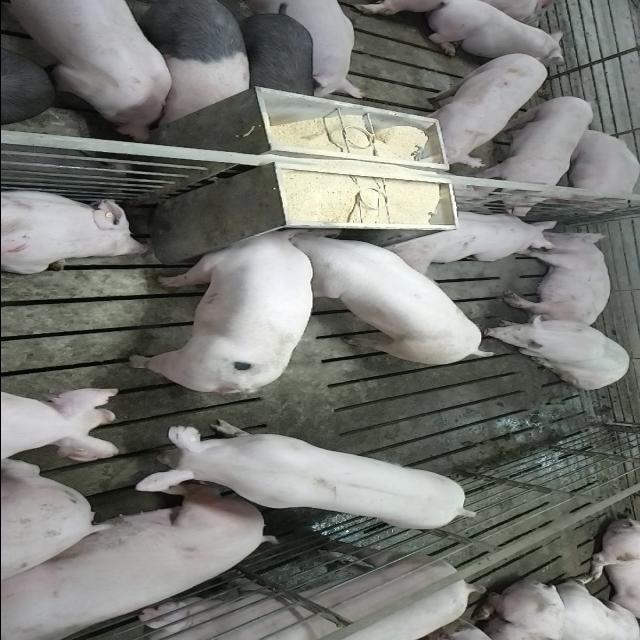Feeding: (123, 220, 315, 390), (286, 231, 498, 367)
Lateral_lying: (501, 230, 611, 329)
Sitting: (481, 316, 633, 390)
Standing: (138, 419, 476, 533), (123, 542, 474, 640), (0, 2, 176, 140), (120, 2, 252, 128), (409, 51, 548, 168), (476, 95, 596, 216), (2, 384, 122, 464), (229, 4, 317, 110)
Sternal_lying: (0, 187, 150, 275), (378, 208, 557, 272), (418, 2, 568, 62), (554, 127, 638, 207)
